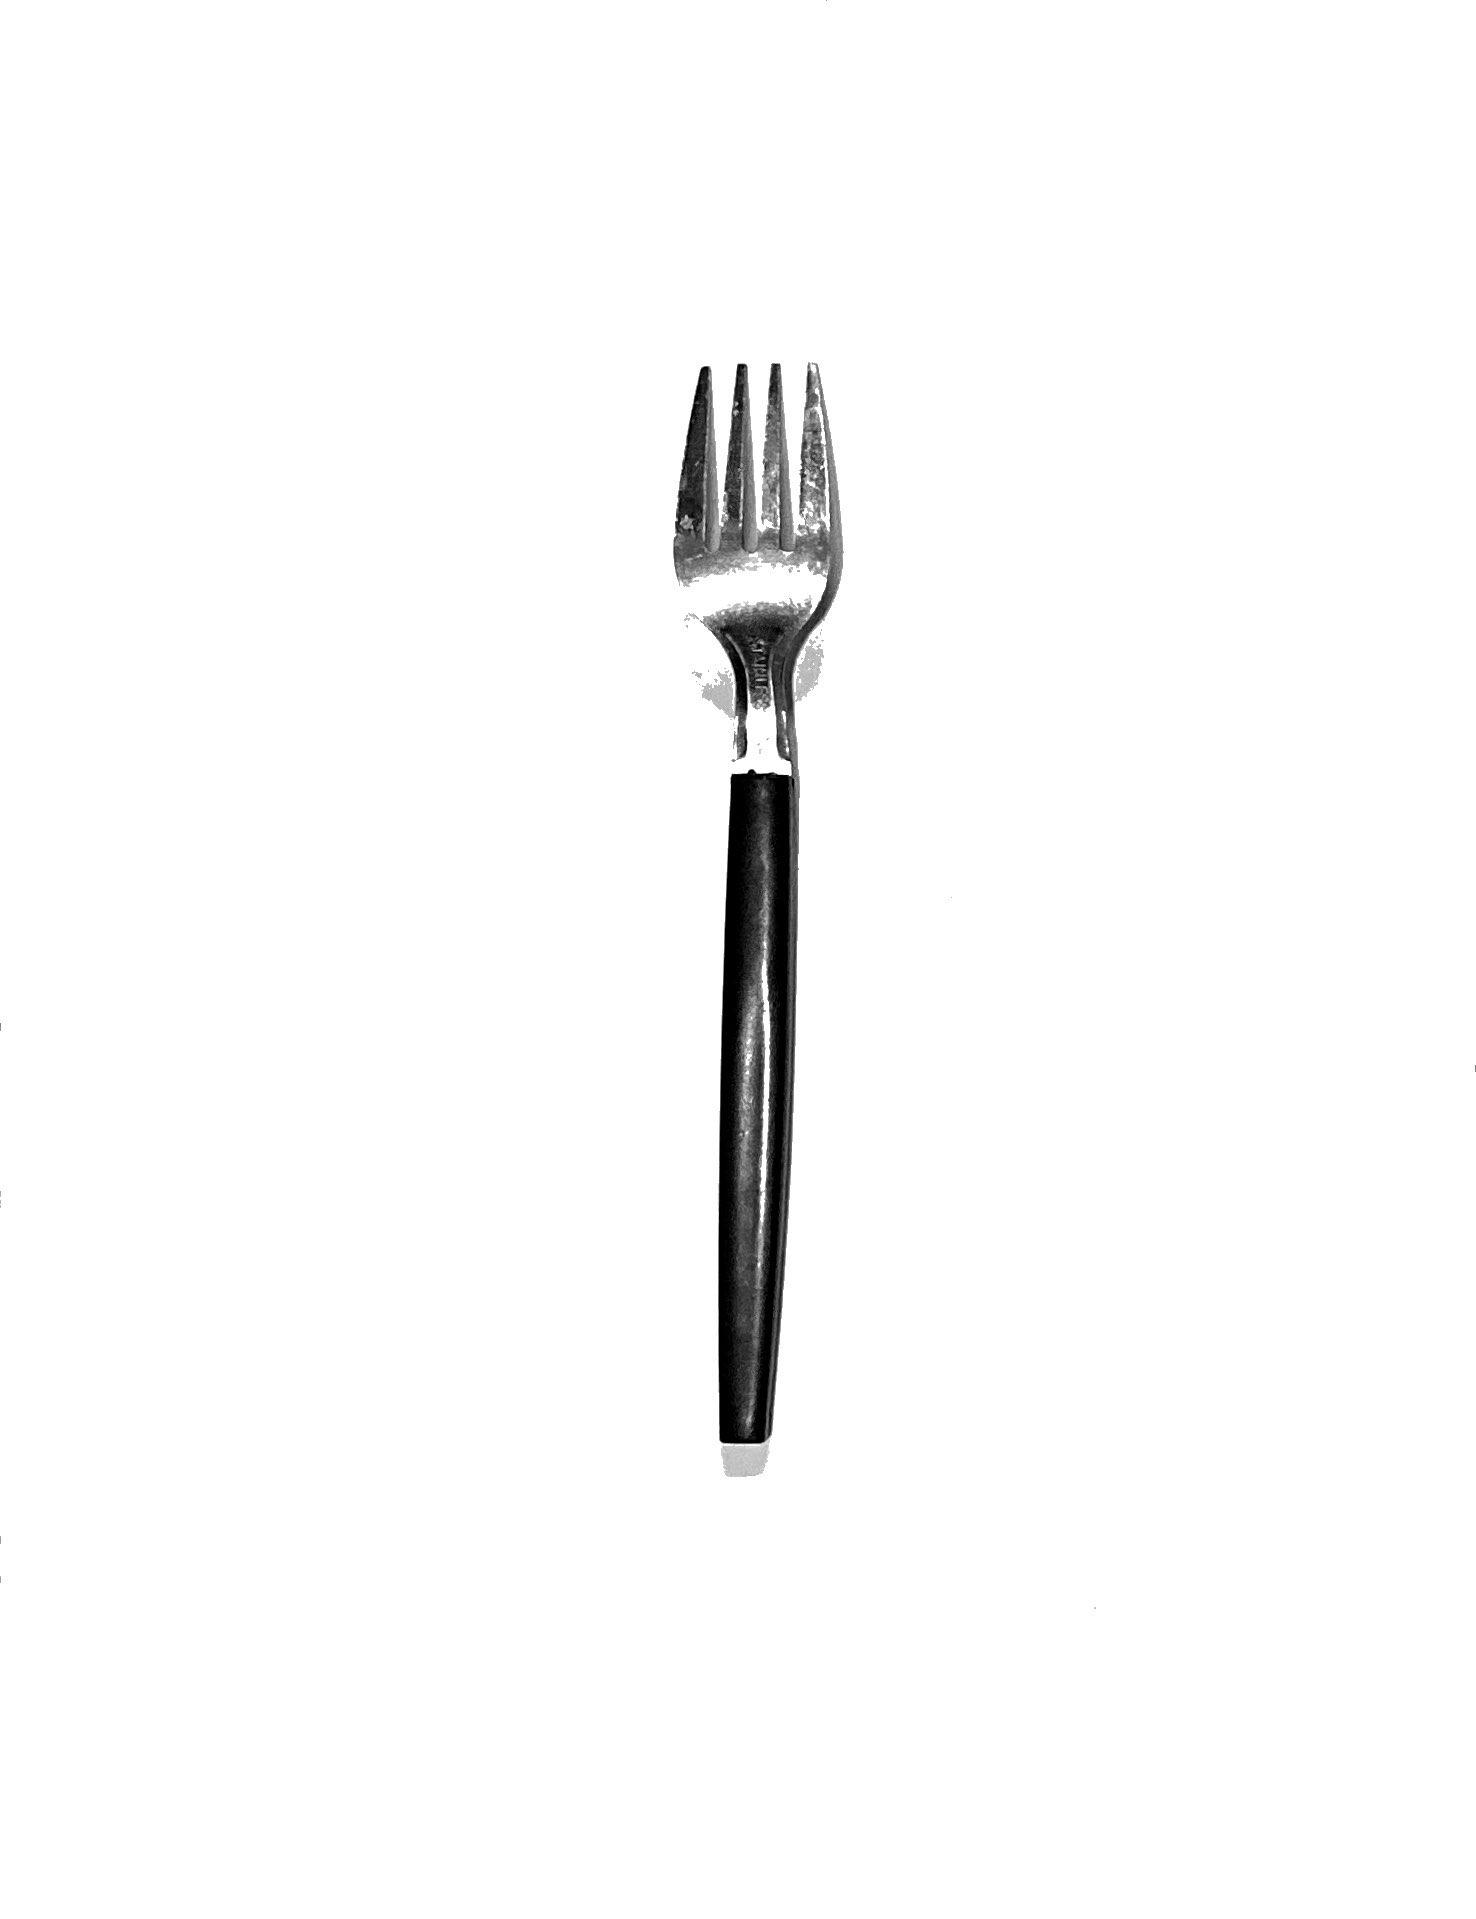Fork: (553, 287, 991, 1559)
